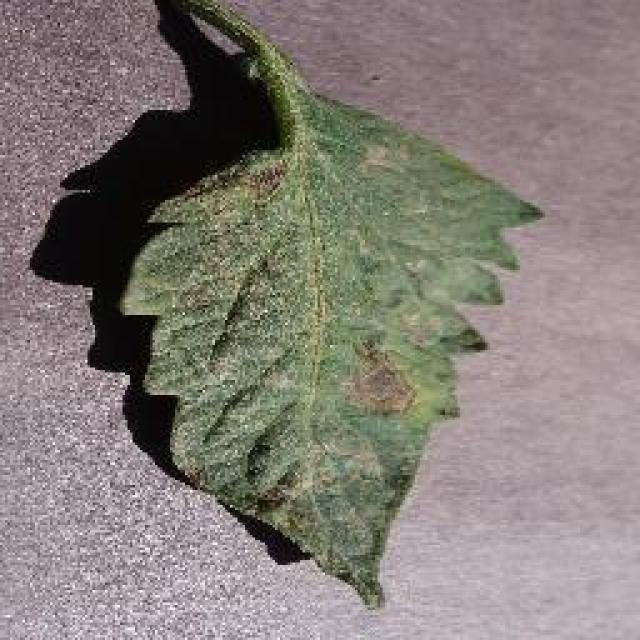Tomato___Early_blight: (118, 0, 552, 612)
